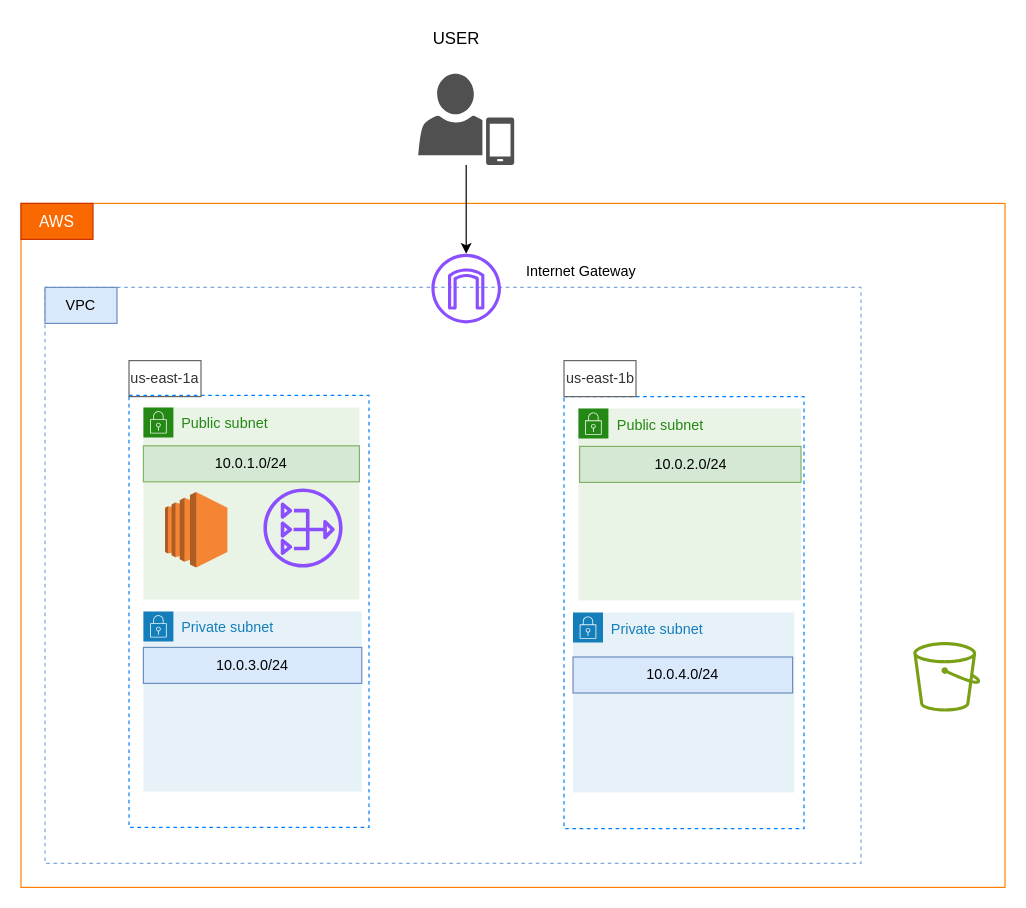
Some shapes in this 1026 by 908 pixel diagram are drawn without their labels. Each missing label, with the centre of its shape:
"Nat-Gateway" belongs at point 302,527.
"Nginx-Server" belongs at point 195,529.
"S3 bucket" belongs at point 946,676.
